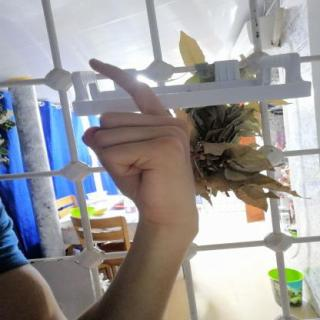RAA: (68, 46, 209, 232)
